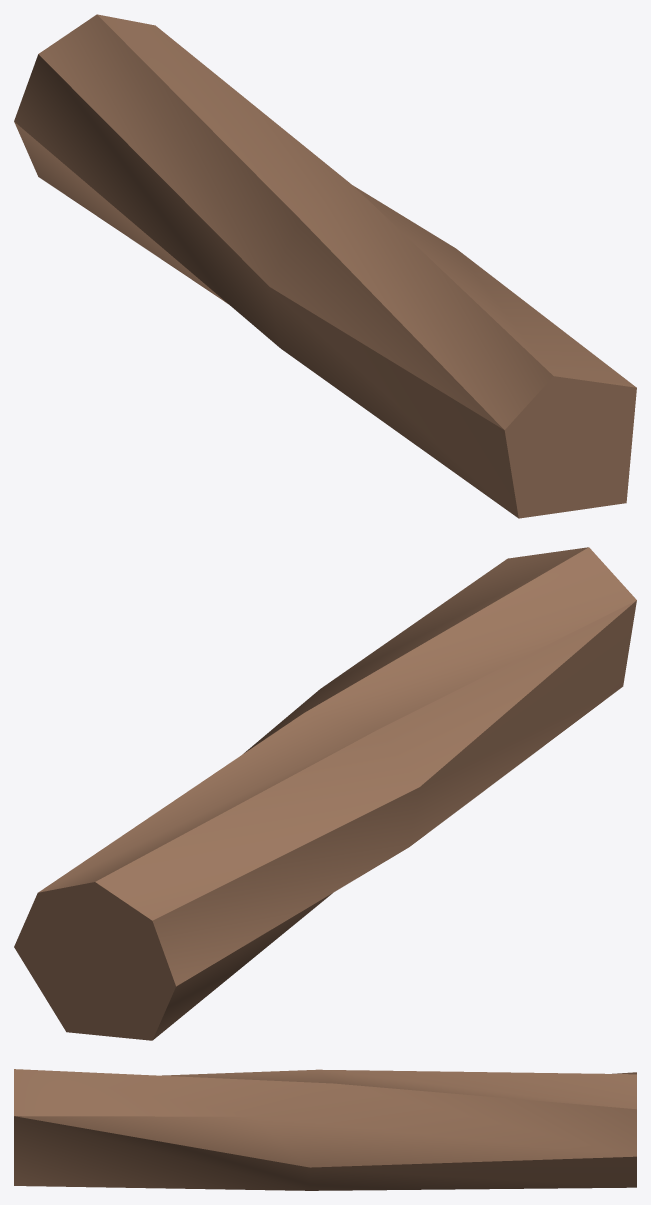
The model's file is Long Log.fbx.
3 views of the same model, one above another, from view 1: azimuth 30°, elevation 25°; view 2: azimuth 150°, elevation 25°; view 3: azimuth 270°, elevation 25° (orthographic). The views are drawn at different scales.
Visible parts, largest first — view 1: Long_Log; view 2: Long_Log; view 3: Long_Log.
Part boxes in pixels (bbox=[...]): Long_Log: bbox=[14, 14, 636, 518]; Long_Log: bbox=[14, 547, 636, 1040]; Long_Log: bbox=[14, 1069, 636, 1190].
Bounding box in the file's own units: 130 × 127 × 653.
